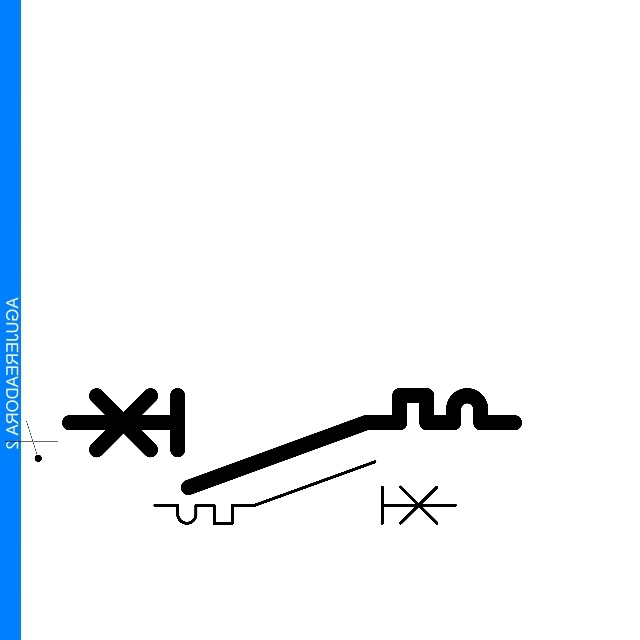interruptor_termomagnetico: (57, 384, 525, 498), (147, 454, 463, 531)
